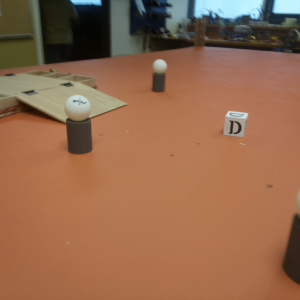obstacle: (61, 95, 97, 155), (150, 59, 167, 93)
slope: (16, 90, 131, 123)
